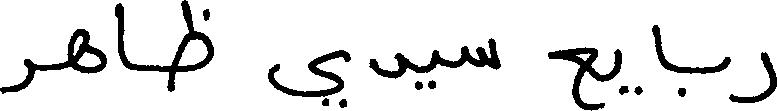X: (268, 45, 349, 110), (173, 0, 211, 95), (548, 42, 596, 110), (732, 47, 776, 107), (68, 24, 105, 78), (463, 33, 500, 74), (0, 54, 33, 98), (372, 48, 405, 83), (116, 0, 125, 71), (654, 20, 665, 73), (720, 52, 730, 104), (432, 45, 439, 93), (615, 44, 620, 98)
